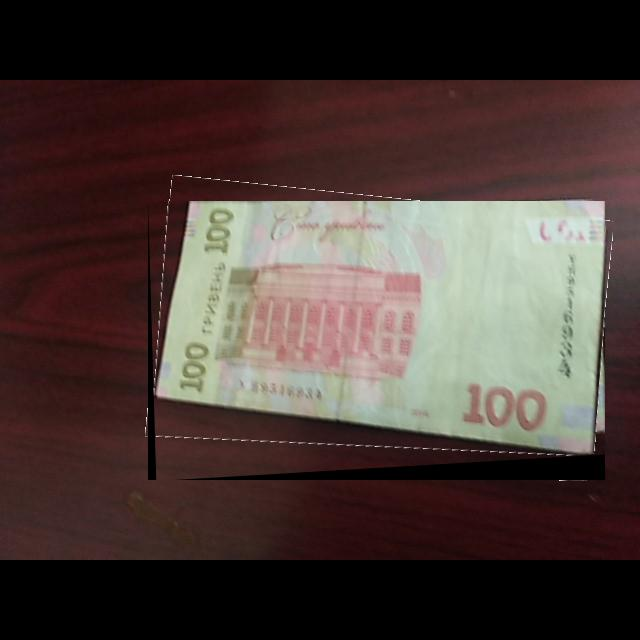100uah: (154, 201, 606, 462)
